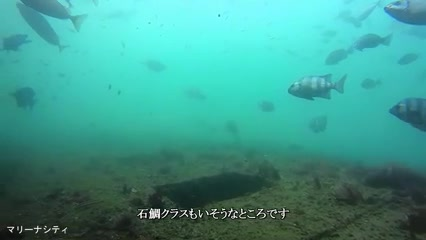smallfish: (283, 69, 351, 102)
